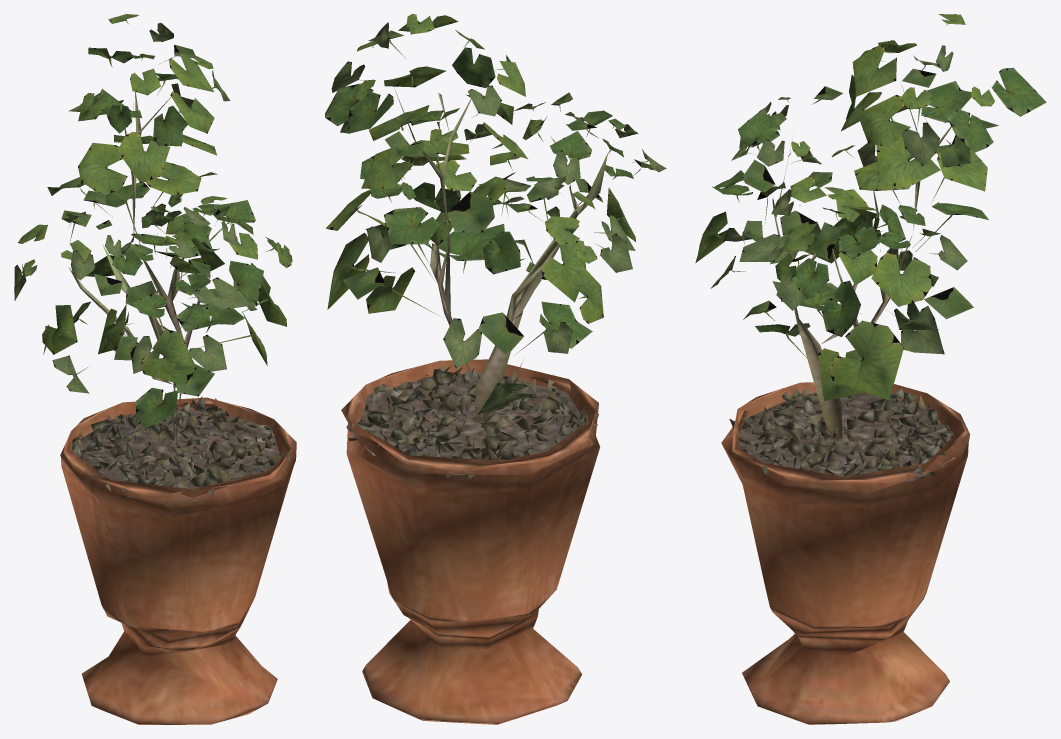
The model's file is potted_plant_01.glb.
3 views of the same model, side by side, from view 1: azimuth 30°, elevation 25°; view 2: azimuth 150°, elevation 25°; view 3: azimuth 270°, elevation 25° (orthographic). The views are drawn at different scales.
Parts seen in each view (by area): view 1: potted_plant_01_pot, potted_plant_01_leaves, potted_plant_01_pebbles, potted_plant_01_stem; view 2: potted_plant_01_pot, potted_plant_01_leaves, potted_plant_01_pebbles, potted_plant_01_stem; view 3: potted_plant_01_pot, potted_plant_01_leaves, potted_plant_01_pebbles, potted_plant_01_stem.
Boxes of the visible parts, x1,y1,x2,y2 form: potted_plant_01_pot: (60,397,296,724); potted_plant_01_leaves: (14,14,292,427); potted_plant_01_pebbles: (72,396,290,501); potted_plant_01_stem: (69,92,212,454); potted_plant_01_pot: (341,359,599,724); potted_plant_01_leaves: (325,14,666,414); potted_plant_01_pebbles: (346,364,598,478); potted_plant_01_stem: (393,86,607,421); potted_plant_01_pot: (721,382,969,724); potted_plant_01_leaves: (695,14,1046,400); potted_plant_01_pebbles: (729,387,961,481); potted_plant_01_stem: (772,86,951,438).
Bounding box in the file's own units: 0.5775 × 1.33 × 0.6336.
Materials: 2 (2 with a texture image).
